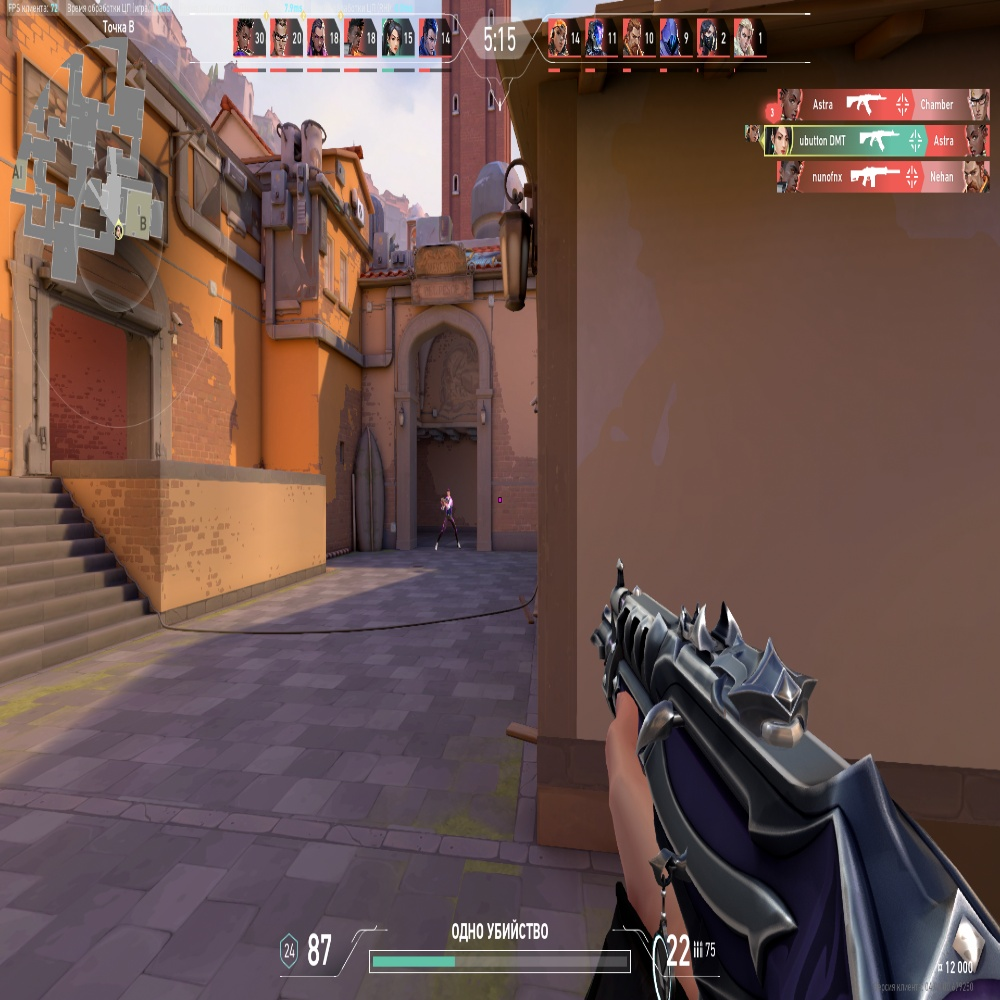body: (443, 500, 454, 519)
head: (445, 489, 452, 497)
